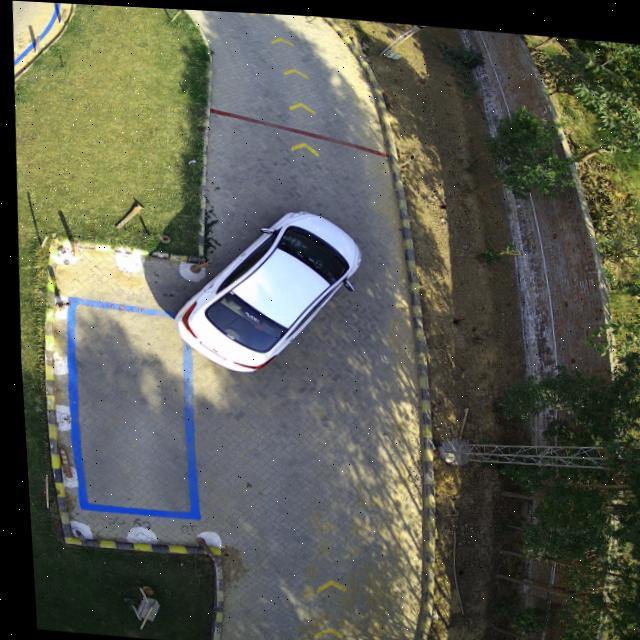car: (170, 207, 357, 370)
